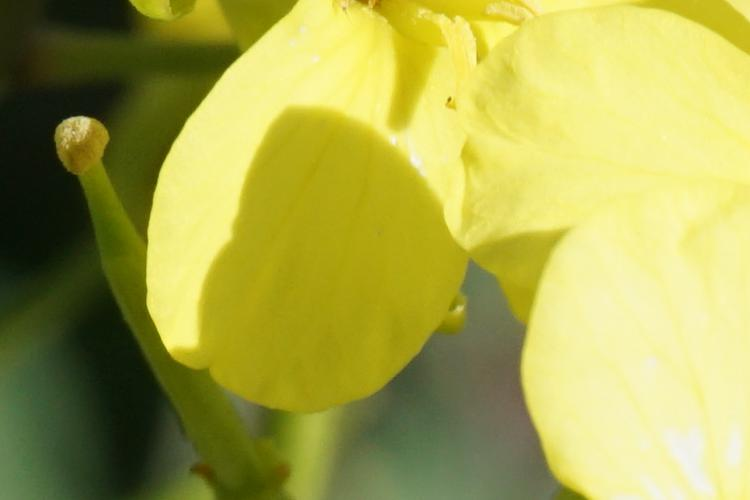pod: (48, 114, 298, 495)
yellow: (130, 3, 750, 427), (534, 185, 749, 500)
